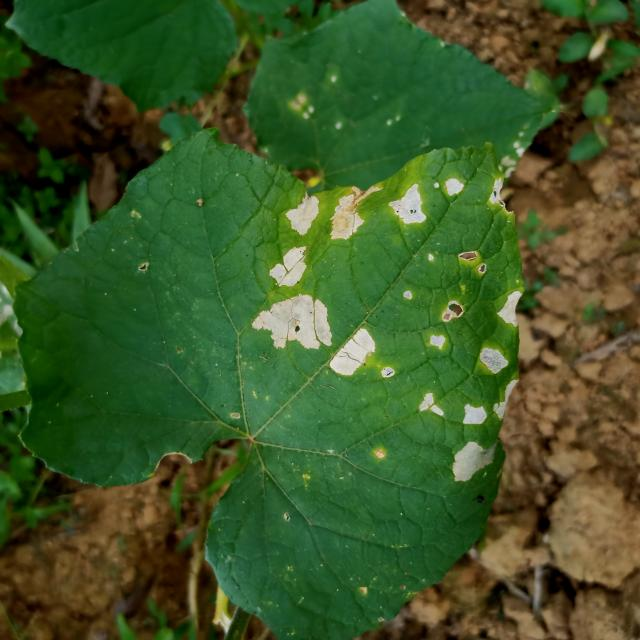disease_cucumber: (255, 295, 375, 375), (420, 394, 486, 482), (389, 176, 466, 224), (287, 192, 362, 239), (484, 342, 515, 421), (426, 300, 465, 350), (269, 243, 309, 286), (498, 290, 520, 328)
